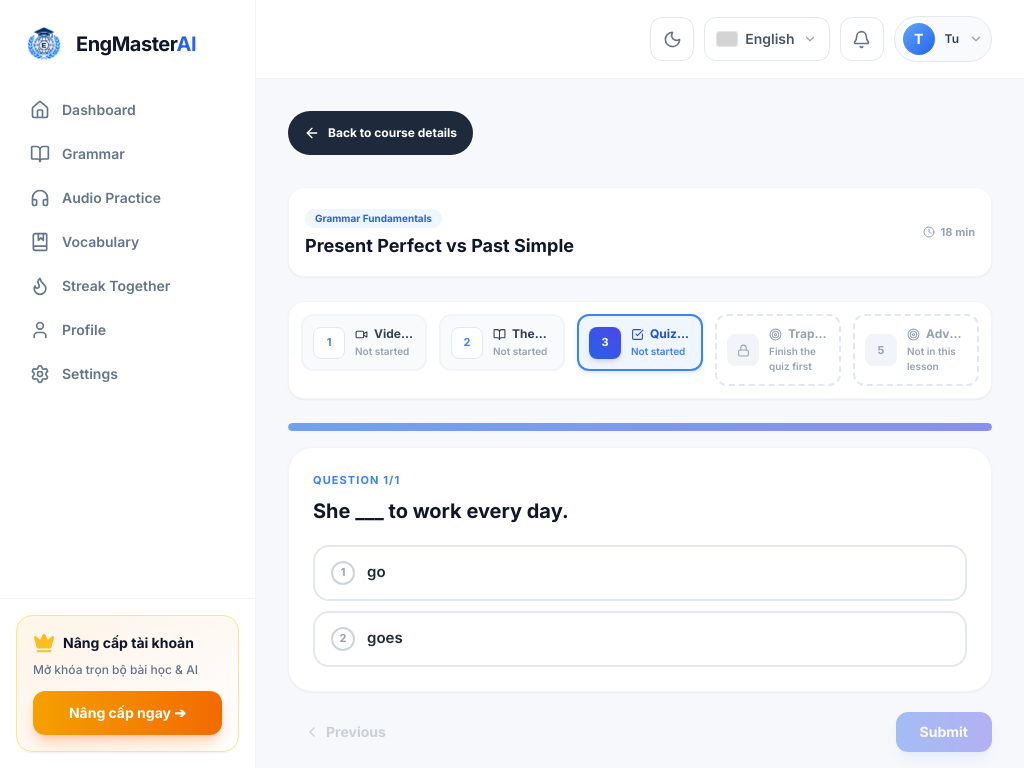
Scenario: LessonPage — Sprint 06B quiz stage › renders the quiz question and lets the student answer, submit, and reach Lesson Complete
The width and height of the screenshot is (1024, 768).
Expected: the heading "She ___ to work every day." is shown, [313,498,569,522]
Click the radio button labelled "2 goes". click: (385, 638)
box: [313,610,967,666]
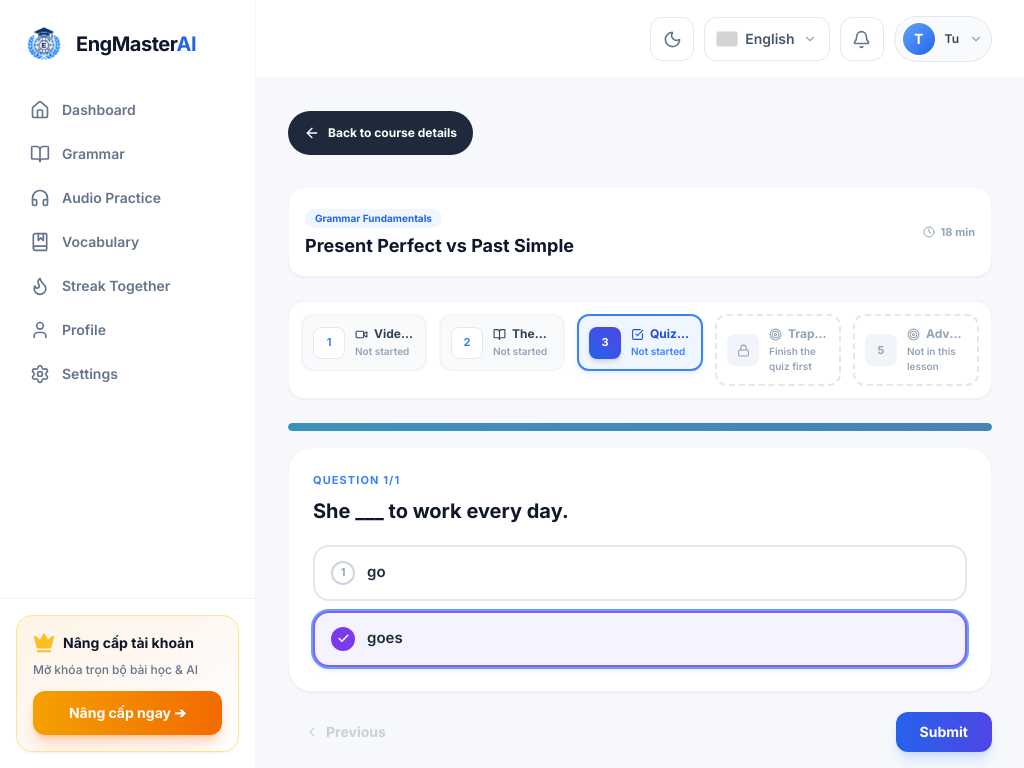
Click the button "Submit". click: (944, 732)
box: [896,712,992,752]
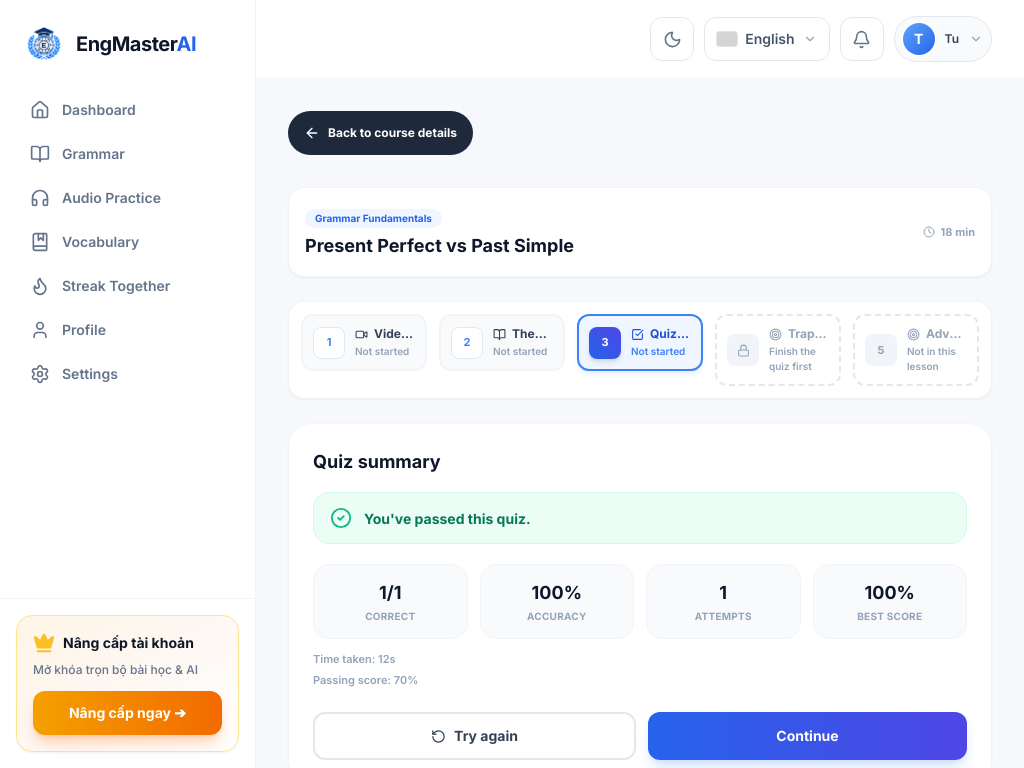
Result: the heading "Quiz summary" is shown at [313,451,441,472]
Result: the text "You've passed this quiz." is shown at [364,508,531,528]
Click the button "Continue". click: (808, 736)
box: [648,712,967,760]
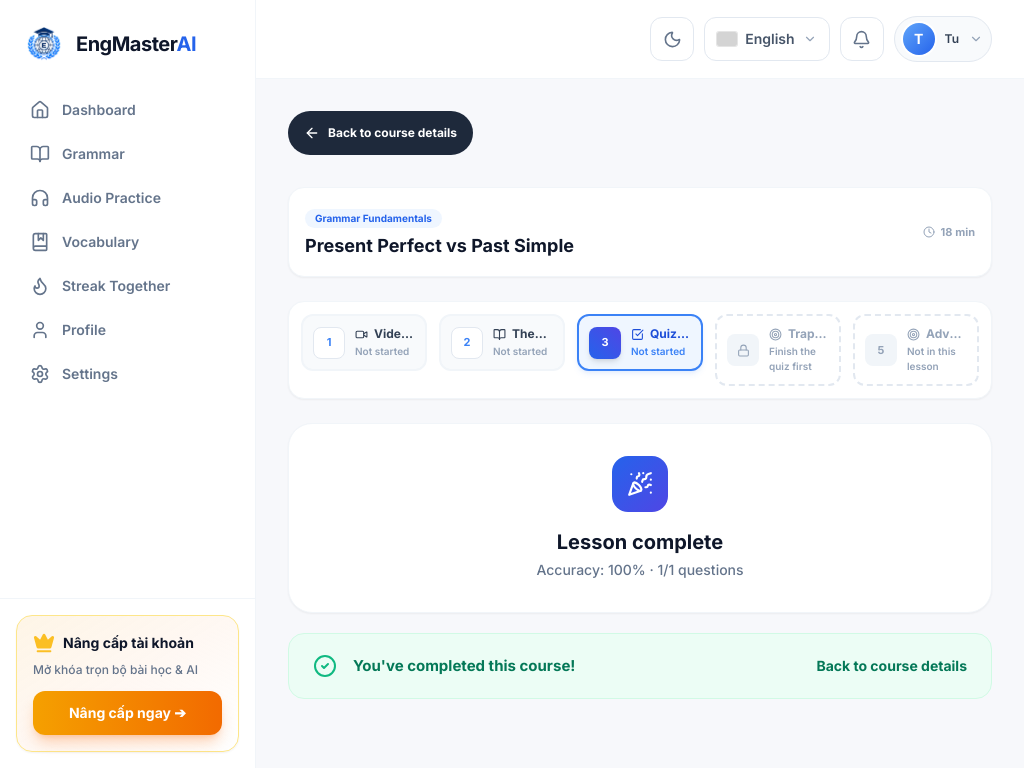
Result: the heading "Lesson complete" is shown at [557,530,723,554]
